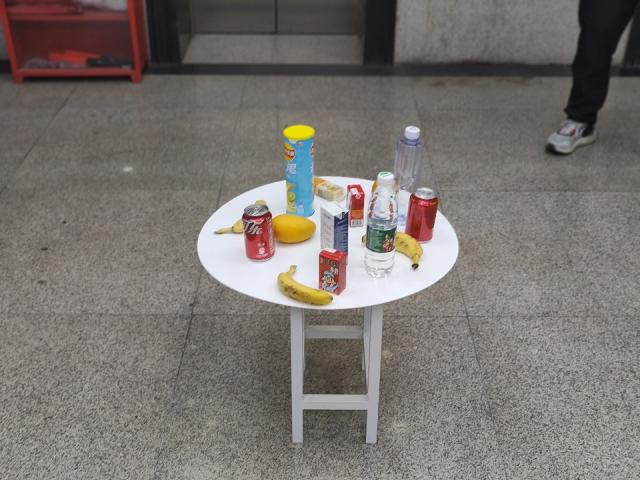Canned_drinks: (241, 207, 276, 259), (412, 190, 436, 244)
bottle: (371, 172, 396, 276), (399, 129, 421, 194)
cylinder: (287, 126, 319, 213)
drink_box: (319, 202, 349, 252), (321, 252, 346, 292), (350, 184, 362, 226)
